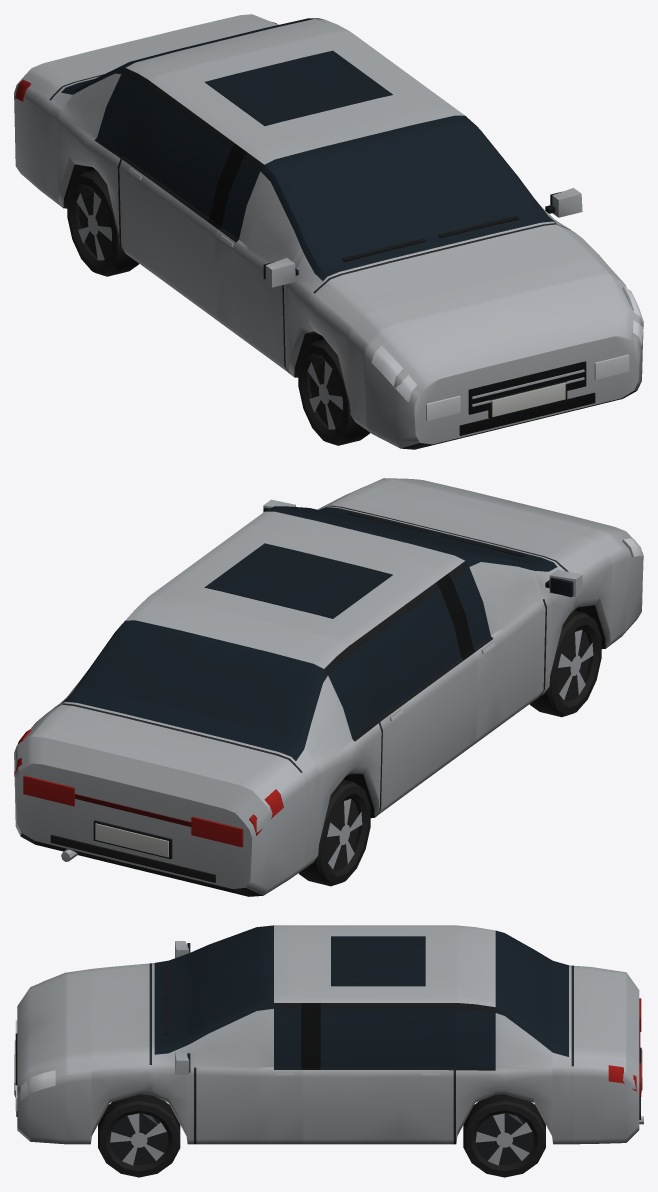
The model's file is vehicle_sedan.glb.
3 views of the same model, one above another, from view 1: azimuth 30°, elevation 25°; view 2: azimuth 150°, elevation 25°; view 3: azimuth 270°, elevation 25° (orthographic). The views are drawn at different scales.
Visible parts, largest first — view 1: vehicle_sedan_LOD0; view 2: vehicle_sedan_LOD0; view 3: vehicle_sedan_LOD0.
Part boxes in pixels (x1,y1,x2,y2): vehicle_sedan_LOD0: [14, 14, 643, 449]; vehicle_sedan_LOD0: [14, 478, 643, 896]; vehicle_sedan_LOD0: [14, 925, 643, 1177].
Size of what is drawn, in the model's own units: 2.21 by 1.45 by 4.91.
